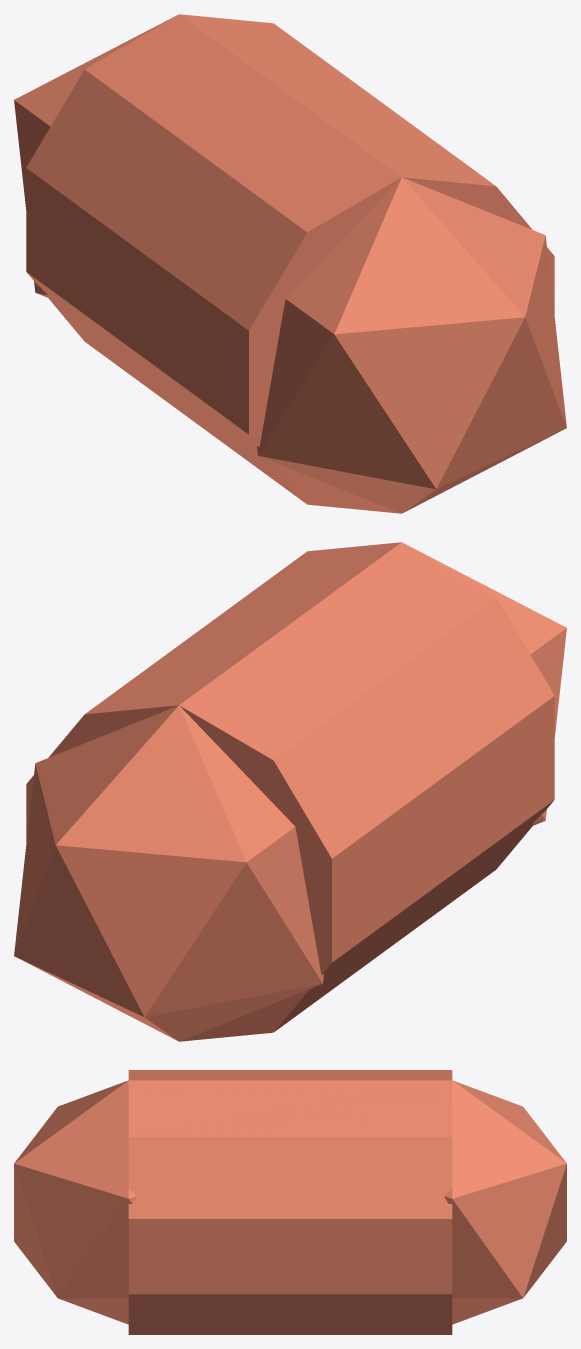
Rendered from bot_hunter.glb.
The picture shows the model from 3 angles, top to bottom: view 1: azimuth 30°, elevation 25°; view 2: azimuth 150°, elevation 25°; view 3: azimuth 270°, elevation 25°; orthographic projection. The views are drawn at different scales.
Visible parts, largest first — view 1: BotHunter_Body; view 2: BotHunter_Body; view 3: BotHunter_Body.
Part boxes in pixels (box(x1,y1,x2,y2)): BotHunter_Body: box(14, 14, 566, 513); BotHunter_Body: box(14, 542, 566, 1041); BotHunter_Body: box(14, 1070, 566, 1334).
Bounding box in the file's own units: 0.9511 × 1 × 2.05.
